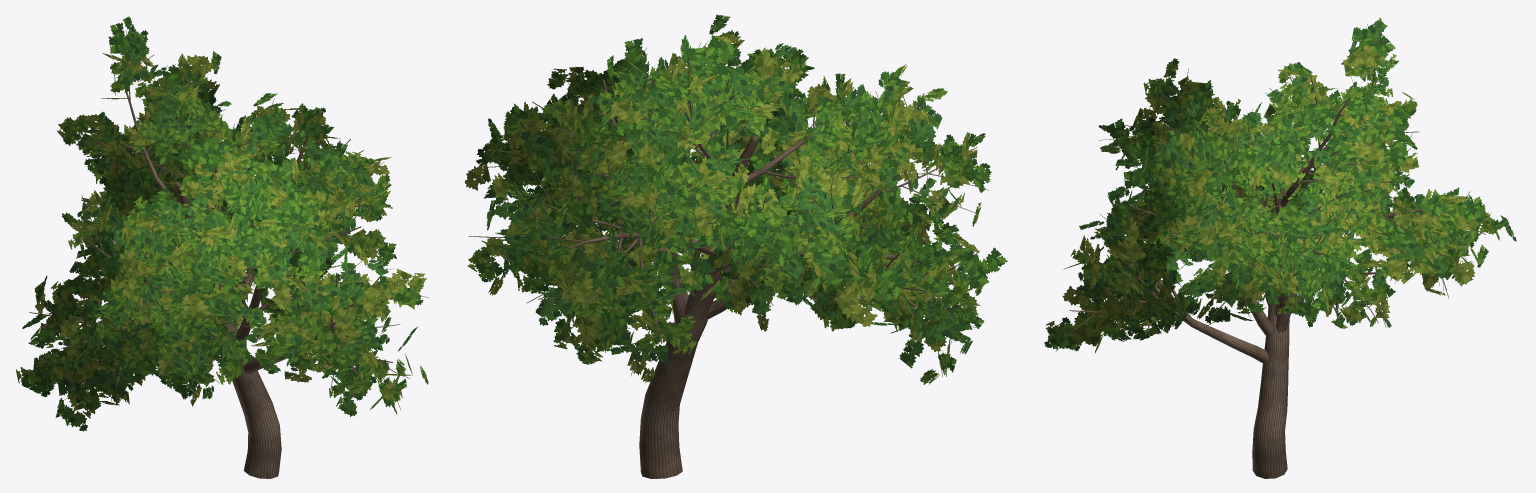
Rendered from hero_oak_c.obj.
3 renders of one model, left to right at view 1: azimuth 30°, elevation 25°; view 2: azimuth 150°, elevation 25°; view 3: azimuth 270°, elevation 25°, orthographic. The views are drawn at different scales.
Parts seen in each view (by area): view 1: hero_oak_c; view 2: hero_oak_c; view 3: hero_oak_c.
Boxes of the visible parts, x1,y1,x2,y2 form: hero_oak_c: (16,16,428,478); hero_oak_c: (465,14,1007,478); hero_oak_c: (1044,17,1516,478).
Size of the model in its own units: 16.07 by 16.45 by 17.03.
2 materials, 2 textured.
